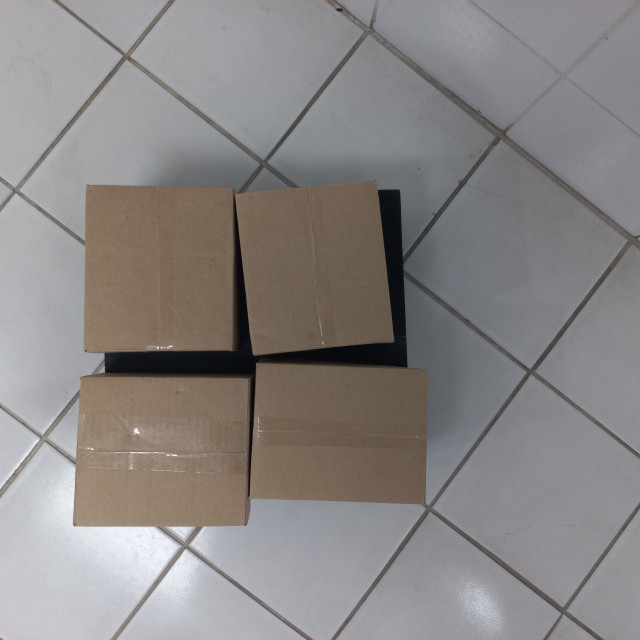box: (233, 176, 397, 360), (70, 372, 254, 531), (81, 181, 241, 355), (247, 360, 433, 506)
